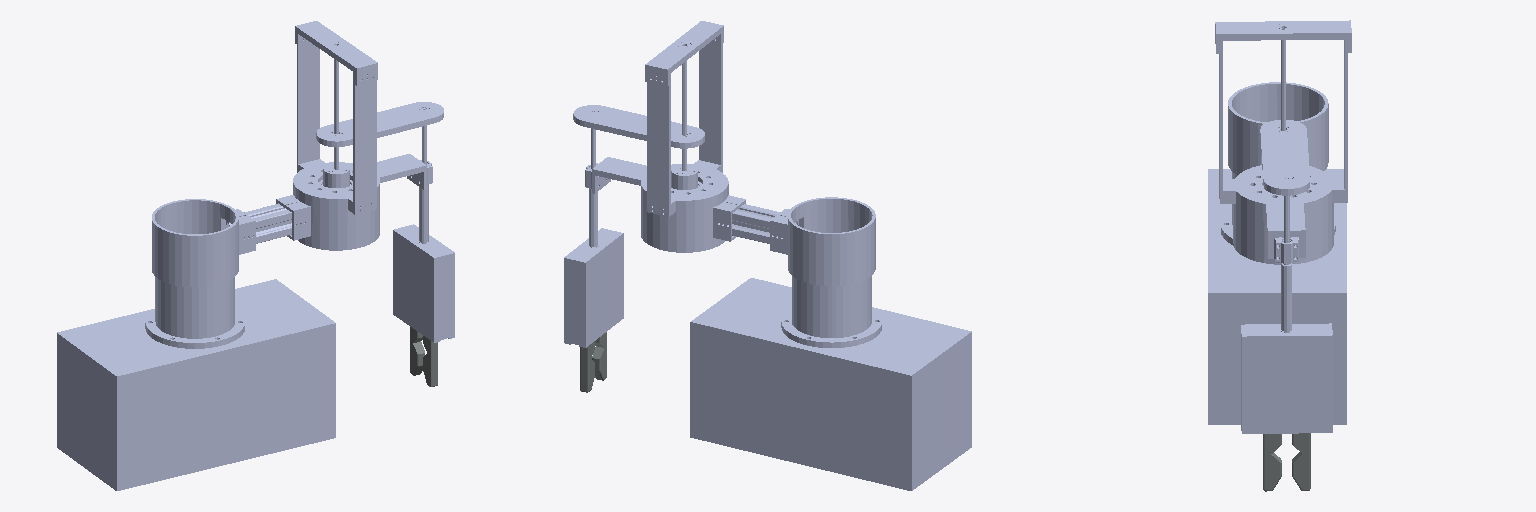
robot.urdf — project:
<?xml version="1.0" encoding="utf-8" ?>
<!-- This URDF was automatically created by SolidWorks to URDF Exporter! Originally created by [author] ([email redacted]) 
     Commit Version: 1.6.0-1-g15f4949  Build Version: 1.6.7594.29634
     For more information, please see http://wiki.ros.org/sw_urdf_exporter -->
<robot name="project">
    <link name="base_link">
        
<inertial>
            <origin xyz="0.278340471985921 0.197898057709709 0.223523549393173" rpy="0 0 0" />
            <mass value="15.8691860759129" />
            <inertia ixx="0.0978878600572836" ixy="-3.43971760546347E-06" ixz="3.11042237695017E-06" iyy="0.25006769909136" iyz="3.30122479418386E-06" izz="0.254828115780011" />
        </inertial>

        <visual>
            <origin xyz="0 0 0" rpy="0 0 0" />
            <geometry>
                <mesh filename="package://project/meshes/base_link.STL" />
            </geometry>
            <material name="">
                <color rgba="0.792156862745098 0.819607843137255 0.933333333333333 1" />
            </material>
        </visual>
        <collision>
            <origin xyz="0 0 0" rpy="0 0 0" />
            <geometry>
                <mesh filename="package://project/meshes/base_link.STL" />
            </geometry>
        </collision>
    </link>
    <link name="world" />
    <joint name="fixed" type="fixed">
        <parent link="world" />
        <child link="base_link" />
    </joint>
    <link name="Link1">
        
<inertial>
            <origin xyz="0.16974 0.082252 0.096772" rpy="0 0 0" />
            <mass value="1.3237" />
            <inertia ixx="0.0030319" ixy="-0.00014178" ixz="-0.00029416" iyy="0.0040254" iyz="-7.4921E-05" izz="0.0033897" />
        </inertial>

        <visual>
            <origin xyz="0 0 0" rpy="0 0 0" />
            <geometry>
                <mesh filename="package://project/meshes/Link1.STL" />
            </geometry>
            <material name="">
                <color rgba="0.79216 0.81961 0.93333 1" />
            </material>
        </visual>
        <collision>
            <origin xyz="0 0 0" rpy="0 0 0" />
            <geometry>
                <mesh filename="package://project/meshes/Link1.STL" />
            </geometry>
        </collision>
    </link>
    <joint name="j1" type="continuous">
        <origin xyz="0.27699 -0.22256 0.39135" rpy="1.5708 0 0.54537" />
        <parent link="base_link" />
        <child link="Link1" />
        <axis xyz="0 1 0" />
    </joint>
    <link name="Link2">
        
<inertial>
            <origin xyz="-0.015475 -0.071109 0.066321" rpy="0 0 0" />
            <mass value="2.2372" />
            <inertia ixx="0.0041222" ixy="2.7294E-17" ixz="0.00033112" iyy="0.0022488" iyz="-4.8279E-17" izz="0.0037287" />
        </inertial>

        <visual>
            <origin xyz="0 0 0" rpy="0 0 0" />
            <geometry>
                <mesh filename="package://project/meshes/Link2.STL" />
            </geometry>
            <material name="">
                <color rgba="0.79216 0.81961 0.93333 1" />
            </material>
        </visual>
        <collision>
            <origin xyz="0 0 0" rpy="0 0 0" />
            <geometry>
                <mesh filename="package://project/meshes/Link2.STL" />
            </geometry>
        </collision>
    </link>
    <joint name="j2" type="prismatic">
        <origin xyz="0.3797 0 0.14093" rpy="0 0 0" />
        <parent link="Link1" />
        <child link="Link2" />
        <axis xyz="0 1 0" />
        <limit lower="-0.03" upper="0.14" effort="0" velocity="0" />
    </joint>
    <link name="Link3">
        
<inertial>
            <origin xyz="-0.018478 2.2204E-16 -0.061307" rpy="0 0 0" />
            <mass value="1.1787" />
            <inertia ixx="0.0035668" ixy="4.6693E-11" ixz="-7.1963E-18" iyy="0.0035773" iyz="1.7981E-17" izz="0.00011508" />
        </inertial>

        <visual>
            <origin xyz="0 0 0" rpy="0 0 0" />
            <geometry>
                <mesh filename="package://project/meshes/Link3.STL" />
            </geometry>
            <material name="">
                <color rgba="0.52941 0.54902 0.54902 1" />
            </material>
        </visual>
        <collision>
            <origin xyz="0 0 0" rpy="0 0 0" />
            <geometry>
                <mesh filename="package://project/meshes/Link3.STL" />
            </geometry>
        </collision>
    </link>
    <joint name="j3" type="prismatic">
        <origin xyz="-0.0020429 -0.12535 0.052704" rpy="-1.5708 1.0535 0" />
        <parent link="Link2" />
        <child link="Link3" />
        <axis xyz="0.5 0 0.86603" />
        <limit lower="0.0" upper="0.05" effort="0" velocity="0" />
    </joint>
    
<transmission name="trans_j1">
        <type>transmission_interface/SimpleTransmission</type>
        <joint name="j1">
            <hardwareInterface>hardware_interface/EffortJointInterface</hardwareInterface>
        </joint>
        <actuator name="j1_motor">
            <hardwareInterface>hardware_interface/EffortJointInterface</hardwareInterface>
            <mechanicalReduction>1</mechanicalReduction>
        </actuator>
    </transmission>
    <transmission name="trans_j2">
        <type>transmission_interface/SimpleTransmission</type>
        <joint name="j2">
            <hardwareInterface>hardware_interface/EffortJointInterface</hardwareInterface>
        </joint>
        <actuator name="j2_motor">
            <hardwareInterface>hardware_interface/EffortJointInterface</hardwareInterface>
            <mechanicalReduction>1</mechanicalReduction>
        </actuator>
    </transmission>
    <transmission name="trans_j3">
        <type>transmission_interface/SimpleTransmission</type>
        <joint name="j3">
            <hardwareInterface>hardware_interface/EffortJointInterface</hardwareInterface>
        </joint>
        <actuator name="j3_motor">
            <hardwareInterface>hardware_interface/EffortJointInterface</hardwareInterface>
            <mechanicalReduction>1</mechanicalReduction>
        </actuator>
    </transmission>
    <gazebo>
        <plugin name="gazebo_ros_control" filename="libgazebo_ros_control.so">
            <robotNamespace>/project</robotNamespace>
        </plugin>
    </gazebo>
</robot>

--- Render facts (derived) ---
The picture shows the robot from 3 angles, left to right: view 1: azimuth 30°, elevation 25°; view 2: azimuth 150°, elevation 25°; view 3: azimuth 270°, elevation 25°; orthographic projection.
Model project with 5 links and 4 joints (1 continuous, 2 prismatic, 1 fixed), rooted at world, posed every joint at zero.
Visible links, largest first — view 1: base_link, Link1, Link2, Link3; view 2: base_link, Link1, Link2, Link3; view 3: Link1, base_link, Link2, Link3.
Boxes of the visible links, x1,y1,x2,y2 form: base_link: (57, 277, 335, 490); Link1: (152, 21, 432, 287); Link2: (316, 102, 454, 342); Link3: (410, 327, 437, 386); base_link: (690, 276, 971, 490); Link1: (585, 21, 875, 286); Link2: (564, 105, 704, 347); Link3: (580, 332, 606, 392); Link1: (1215, 20, 1351, 264); base_link: (1208, 169, 1346, 424); Link2: (1241, 120, 1332, 433); Link3: (1263, 433, 1310, 491).
Size in the robot's own frame: 0.6544 by 0.1969 by 0.6292 metres.
4 mesh visuals loaded from 4 distinct referenced files (4 binary STL).